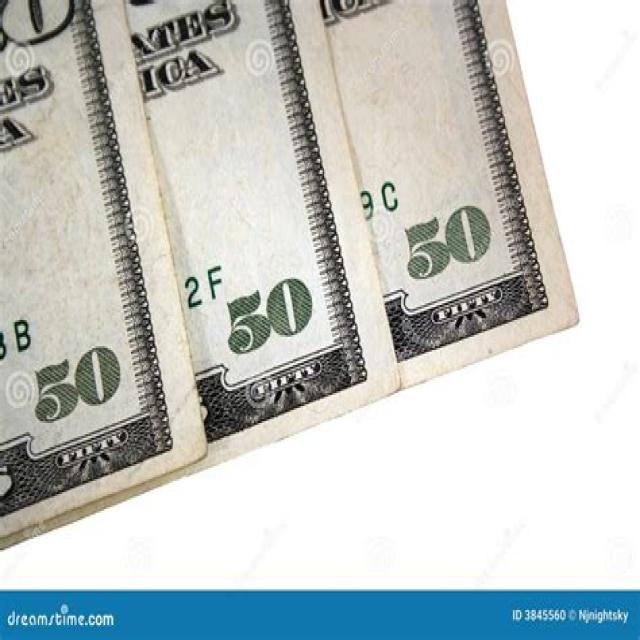Fifty: (117, 0, 401, 457), (0, 0, 210, 535), (311, 0, 579, 385)
